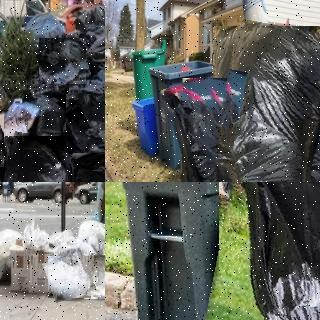Garbage: (201, 22, 320, 182), (208, 182, 320, 320), (171, 76, 243, 182), (1, 133, 70, 182), (36, 35, 89, 87), (65, 93, 105, 153), (45, 253, 94, 301), (82, 254, 105, 300), (72, 152, 105, 182)
